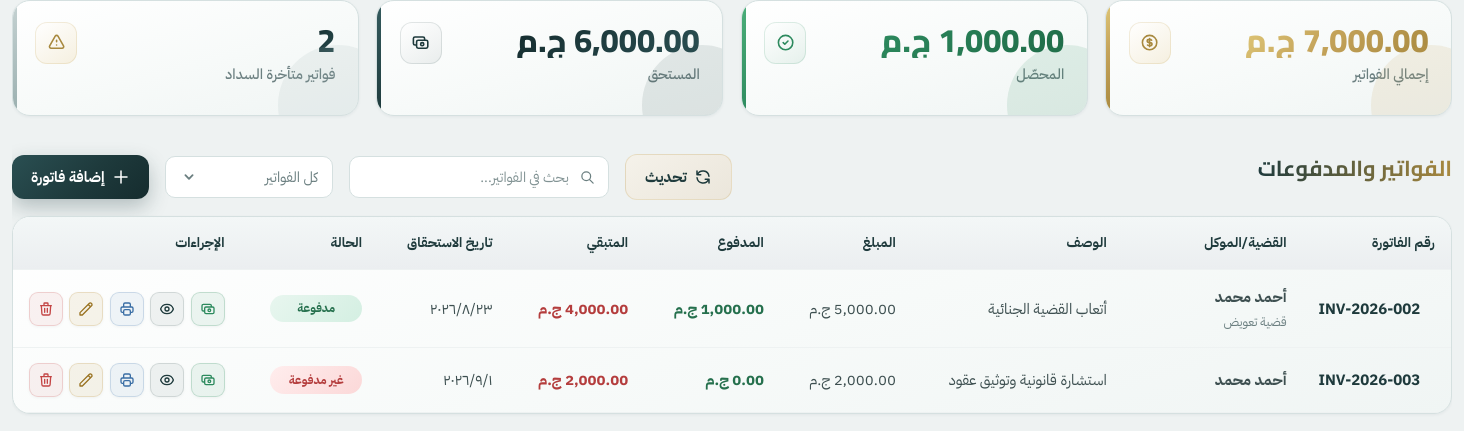
Scenario: InvoicesPage Feature Tests › filters invoices by search query
expect the text "INV-2026-002" is shown: met, box [1302,270,1451,347]
expect the text "INV-2026-003" is shown: met, box [1302,347,1451,413]
Step 1. Type "عقود" into the search field with placeholder "بحث في الفواتير..." → point(479, 177), box [349,156,609,198]
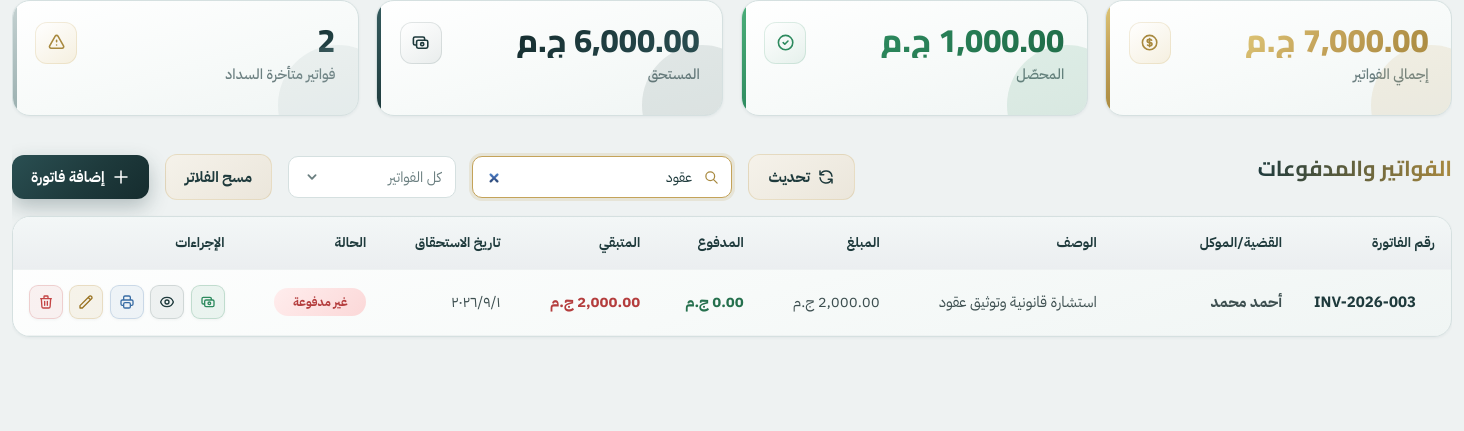
expect the text "INV-2026-003" is shown: met, box [1298,270,1451,335]
expect the text "INV-2026-002" is gone: met
